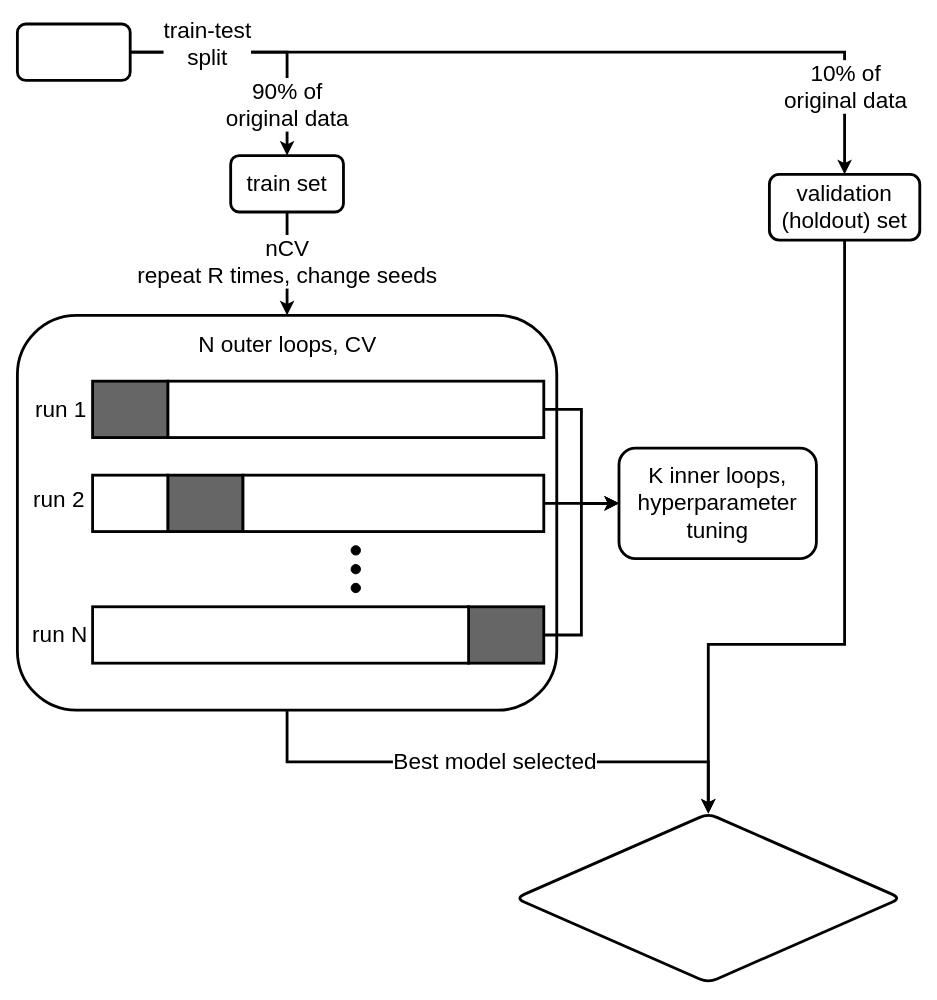
The diagram is 937 pixels wide and 1000 high, and some of its shapes have lost their labels. Here are the shapes that lost their labels. From the top down, the box of each, then its label:
(16, 22, 131, 81): all data
(514, 812, 902, 984): Bootstrapping for final metrics calculation
